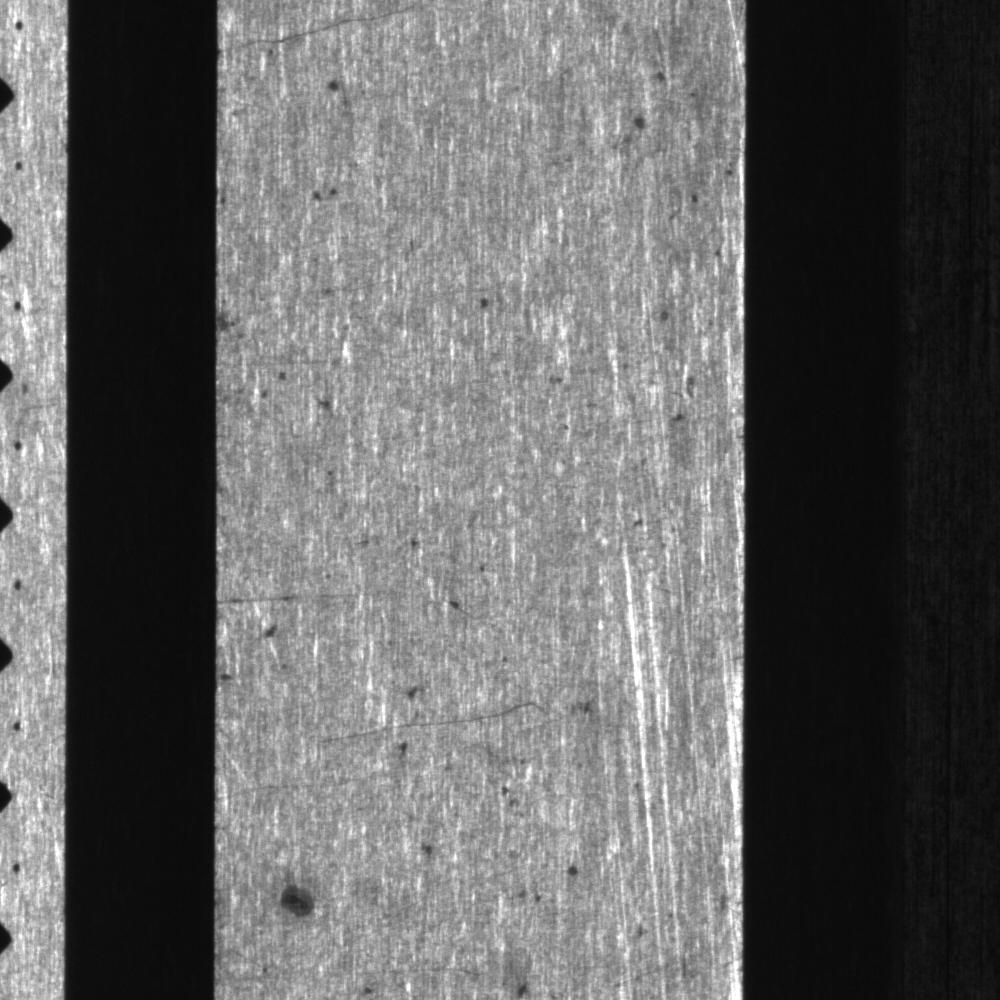Discolor: (260, 875, 333, 930)
Etching: (611, 54, 738, 216), (644, 290, 721, 439), (407, 531, 502, 628), (533, 351, 623, 447), (498, 842, 604, 914), (219, 611, 297, 696), (241, 369, 353, 424), (483, 940, 566, 1000), (403, 801, 467, 869), (211, 286, 261, 358), (488, 759, 541, 821), (299, 169, 373, 212), (314, 57, 373, 107)
Scar: (608, 544, 714, 995), (323, 692, 554, 751), (224, 1, 433, 51), (216, 765, 367, 821), (214, 581, 381, 611)
